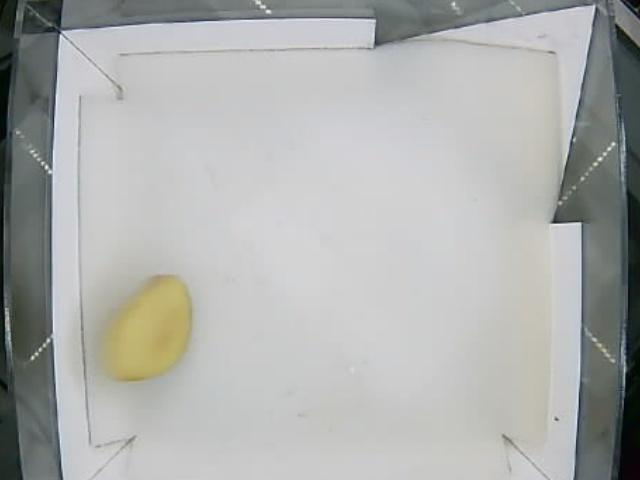Potato: (100, 275, 193, 383)
